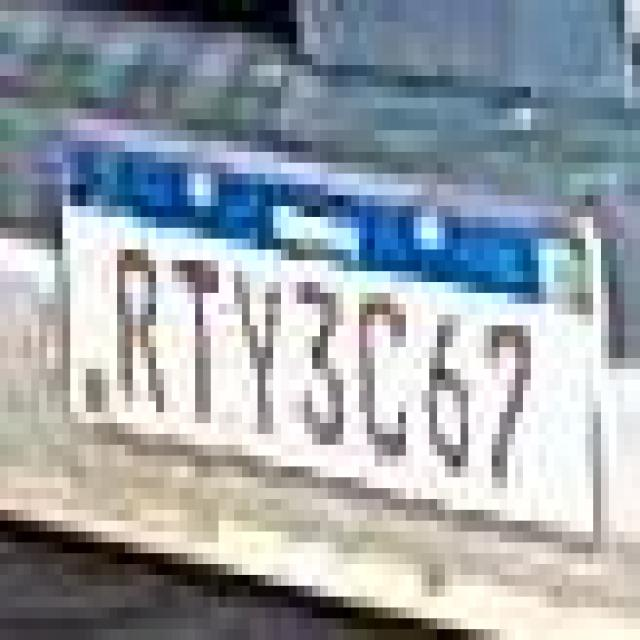3: (290, 270, 348, 452)
6: (421, 302, 479, 484)
7: (480, 314, 536, 497)
C: (350, 281, 414, 466)
R: (110, 239, 170, 416)
T: (174, 247, 224, 419)
Y: (232, 269, 286, 446)
